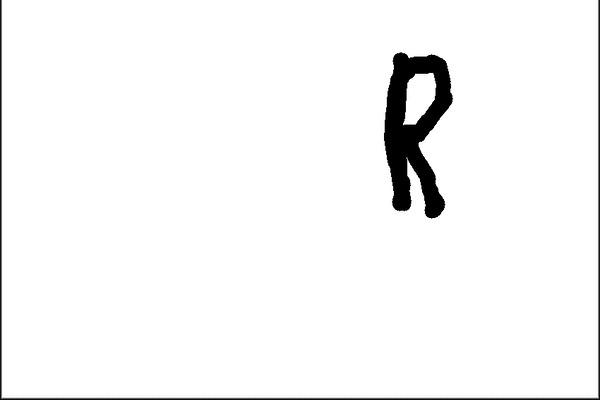R: (370, 44, 466, 223)
